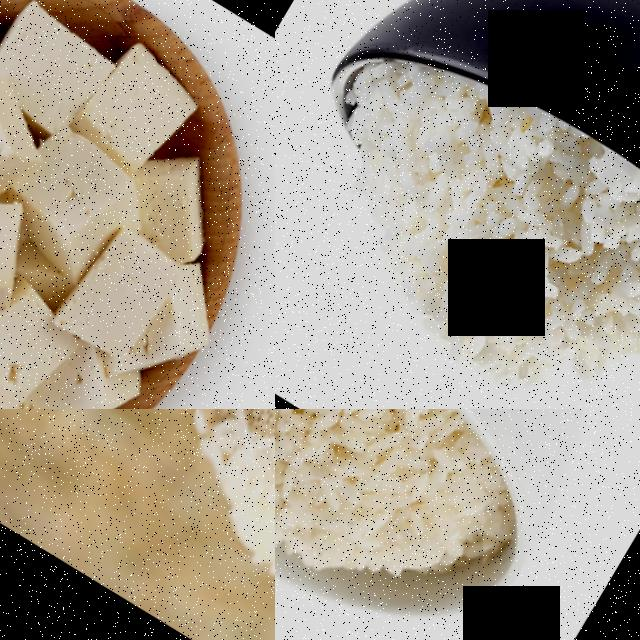tofu: (47, 211, 195, 375), (67, 32, 211, 185), (9, 124, 140, 259), (0, 163, 56, 342), (0, 46, 48, 199)
white rice: (279, 54, 640, 409), (275, 409, 541, 640), (178, 426, 275, 624)
